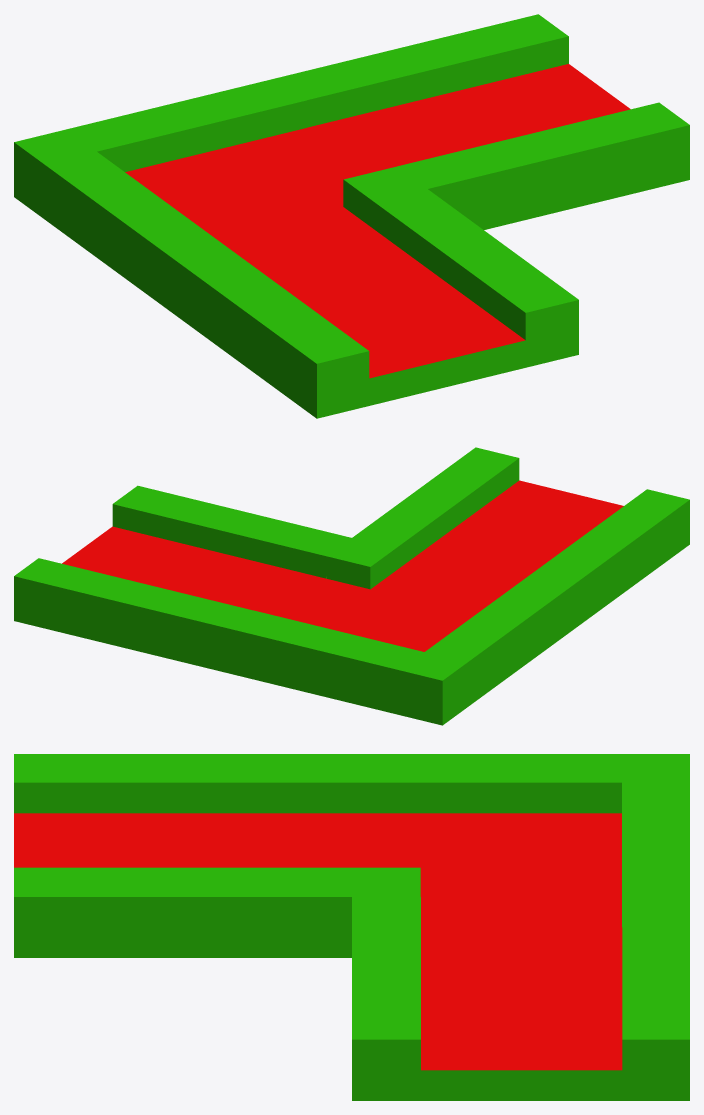
Rendered from moduler_pieces_corner.FBX.
3 views of the same model, one above another, from view 1: azimuth 30°, elevation 25°; view 2: azimuth 150°, elevation 25°; view 3: azimuth 270°, elevation 25° (orthographic). The views are drawn at different scales.
Visible parts, largest first — view 1: pieces_new_corner002; view 2: pieces_new_corner002; view 3: pieces_new_corner002.
Boxes of the visible parts, x1=… form: pieces_new_corner002: x1=14, y1=14, x2=689, y2=418; pieces_new_corner002: x1=14, y1=447, x2=689, y2=725; pieces_new_corner002: x1=14, y1=754, x2=689, y2=1100.
Bounding box in the file's own units: 200 × 20 × 200.
